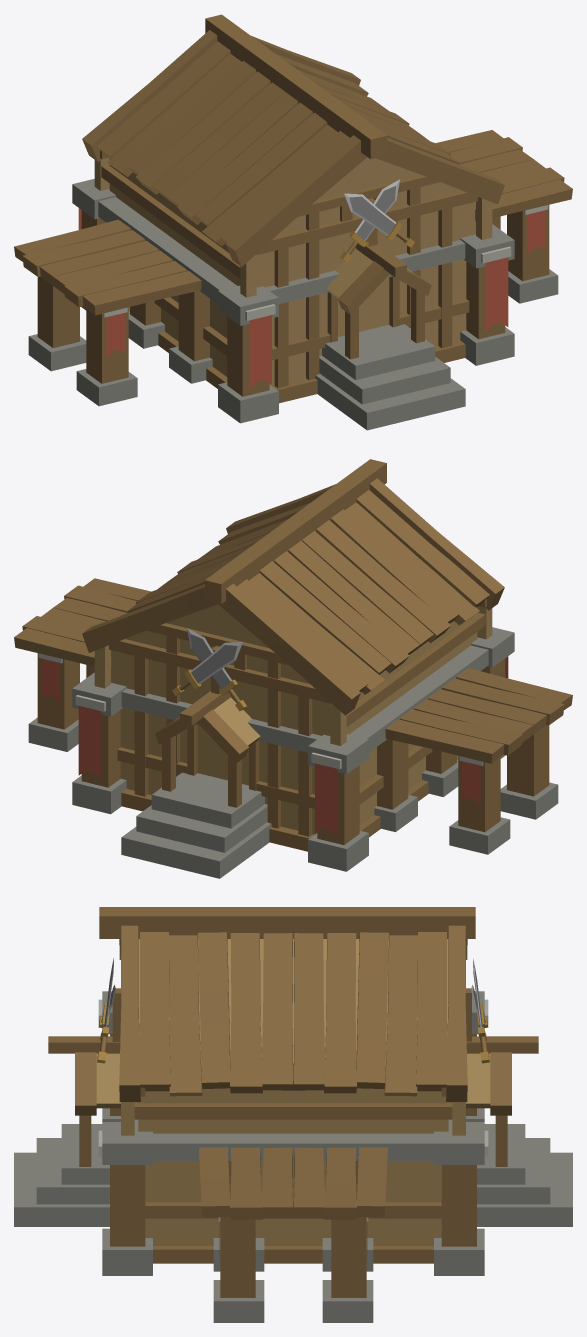
Rendered from project-2.glb.
3 views of the same model, one above another, from view 1: azimuth 30°, elevation 25°; view 2: azimuth 150°, elevation 25°; view 3: azimuth 270°, elevation 25° (orthographic). The views are drawn at different scales.
Parts seen in each view (by area): view 1: Barracks_FirstAge_Level2; view 2: Barracks_FirstAge_Level2; view 3: Barracks_FirstAge_Level2.
Boxes of the visible parts, box(x1,y1,x2,y2) form: Barracks_FirstAge_Level2: box(14, 14, 572, 430); Barracks_FirstAge_Level2: box(14, 459, 572, 878); Barracks_FirstAge_Level2: box(14, 907, 572, 1322).
Size of the model in its own units: 1.79 by 0.8923 by 1.57.
1 material, 1 textured.
